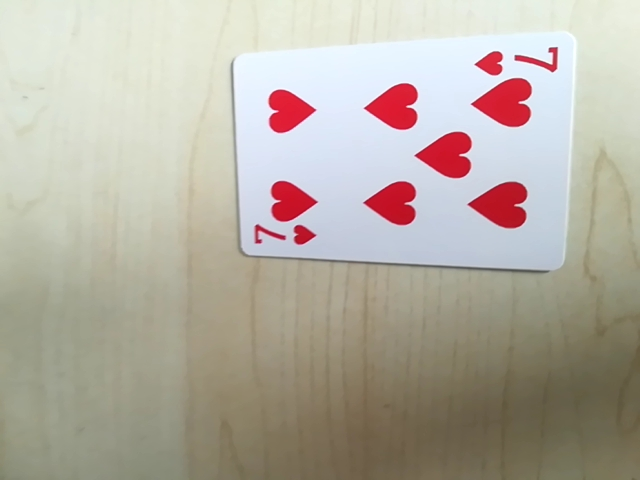hx 7: (476, 38, 563, 78), (247, 221, 320, 256)
